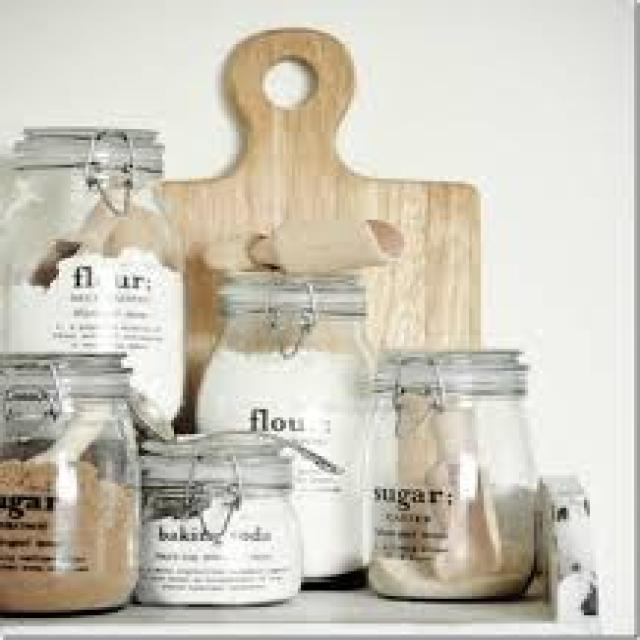glass: (0, 126, 180, 434), (192, 275, 372, 580), (360, 349, 537, 596), (3, 352, 136, 610), (133, 440, 298, 607)
